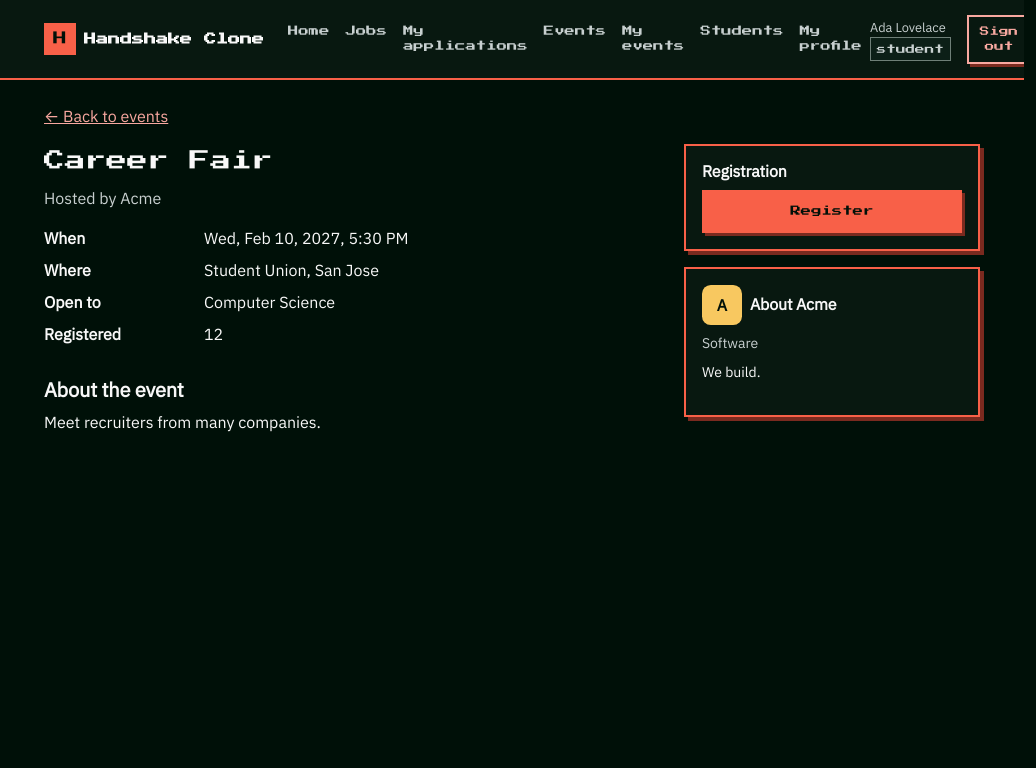
Event details and registration › shows the server's message when registering fails
This screenshot has width=1036, height=768.
Step 1. Click the button "Register" → [832, 211], box [702,190,962,233]
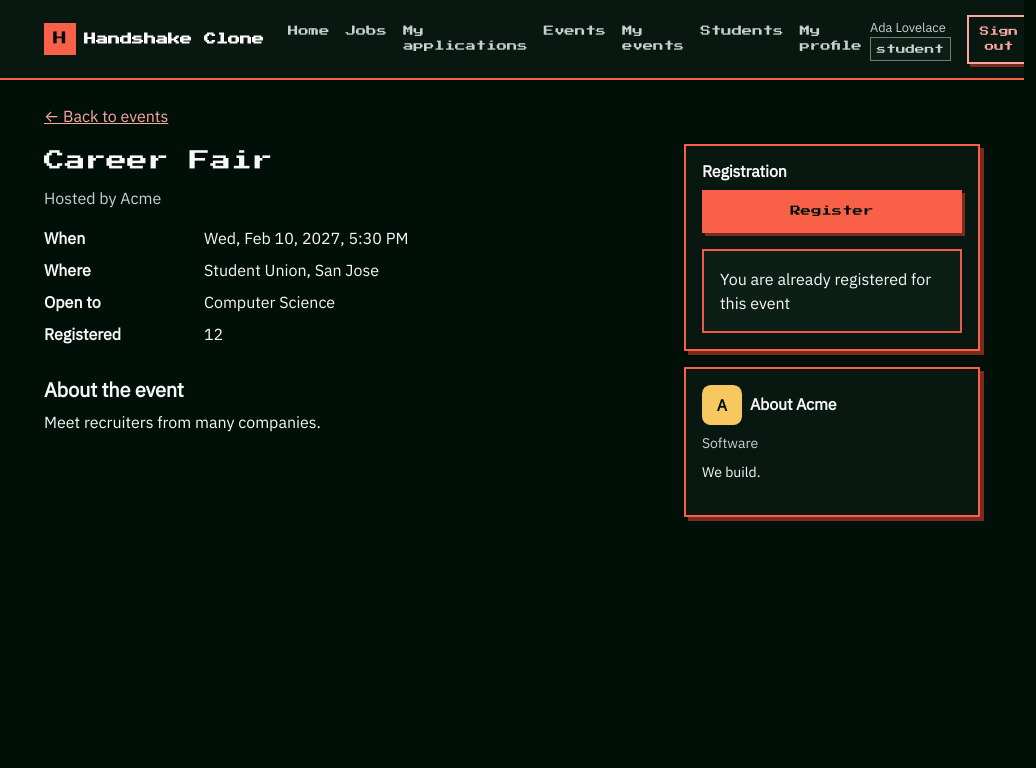
expect the message reads "You are already registered for this event": met, box [720,269,931,313]
